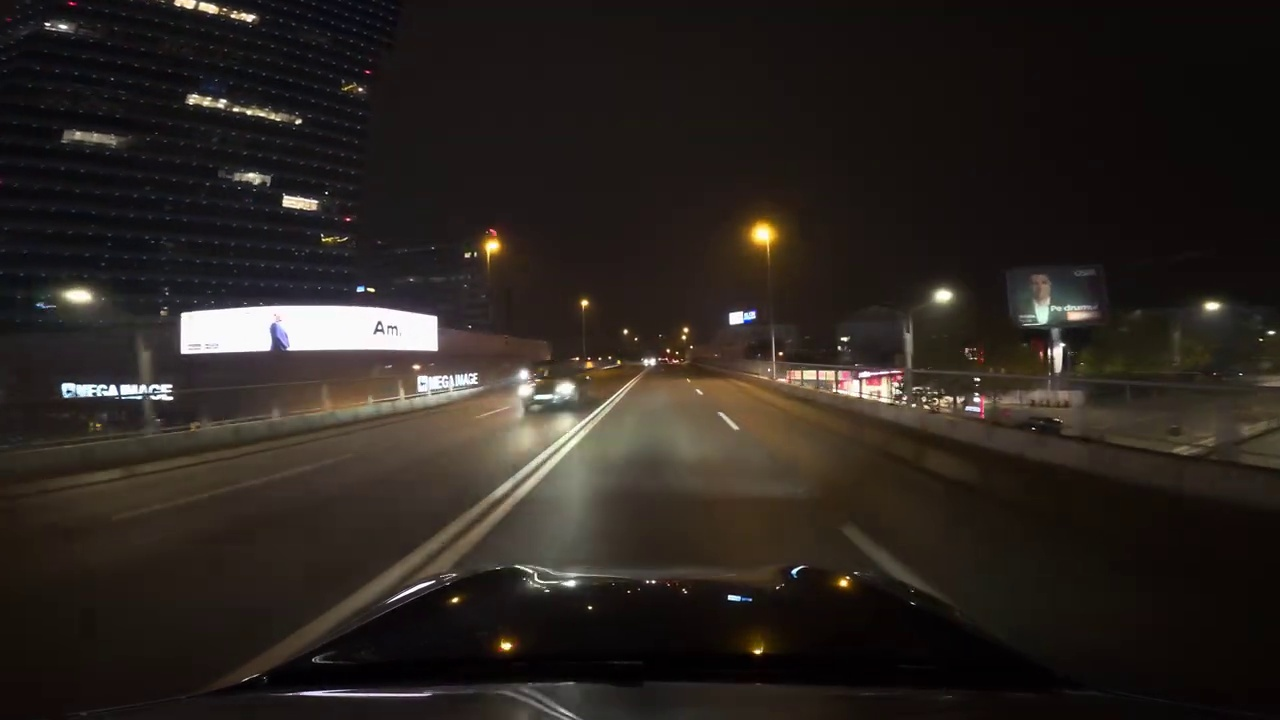acesa: (747, 220, 778, 250), (61, 285, 96, 310), (479, 230, 505, 260), (929, 283, 957, 310), (1199, 296, 1225, 318), (575, 295, 595, 316)
